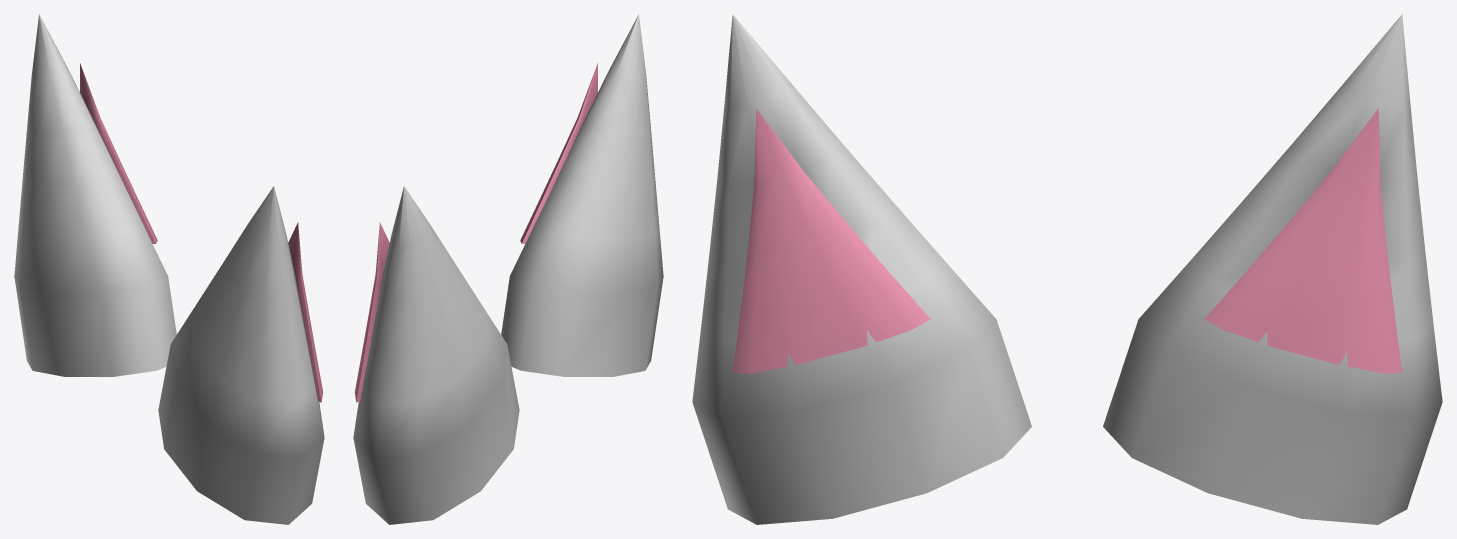
Rendered from acc_cat_ears.glb.
3 views of the same model, side by side, from view 1: azimuth 30°, elevation 25°; view 2: azimuth 150°, elevation 25°; view 3: azimuth 270°, elevation 25° (orthographic). The views are drawn at different scales.
Parts seen in each view (by area): view 1: acc_cat_ears; view 2: acc_cat_ears; view 3: acc_cat_ears.
Boxes of the visible parts, box(x1,y1,x2,y2) form: acc_cat_ears: box(14, 14, 324, 524); acc_cat_ears: box(353, 14, 663, 524); acc_cat_ears: box(692, 14, 1442, 524).
Size of the model in its own units: 0.1008 by 0.3008 by 0.4205.
